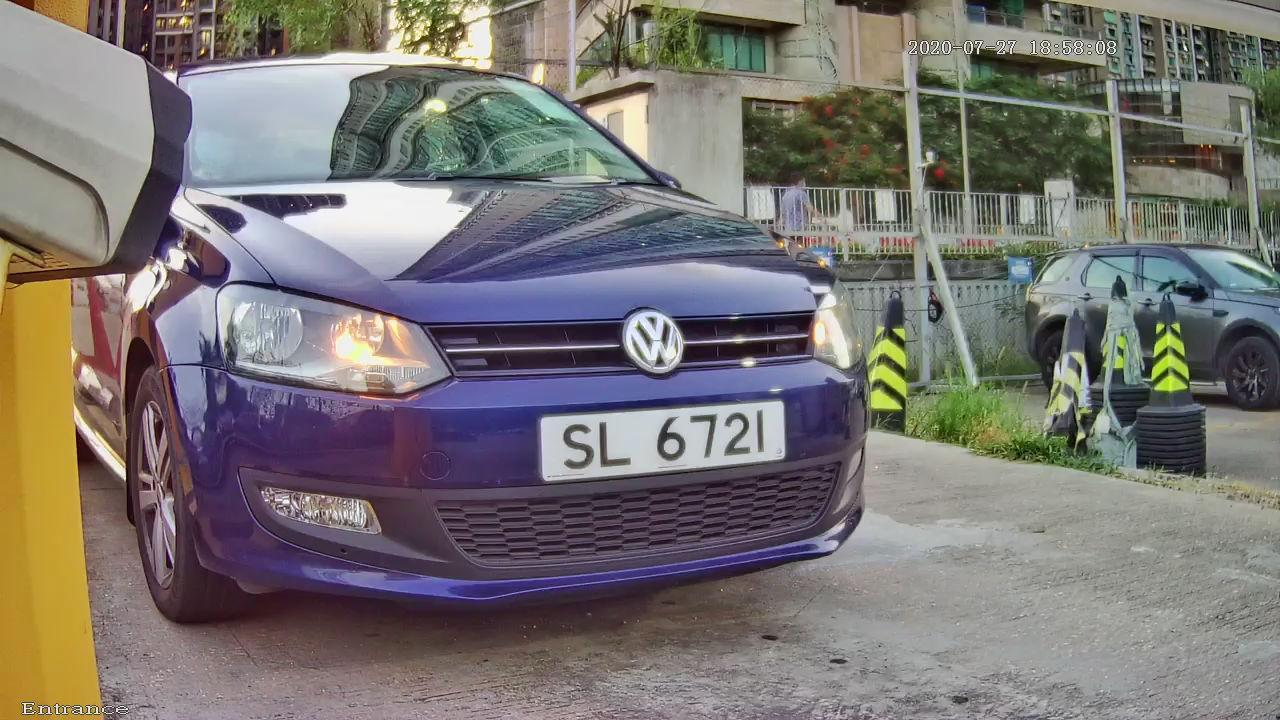privatecar: (46, 23, 961, 650)
